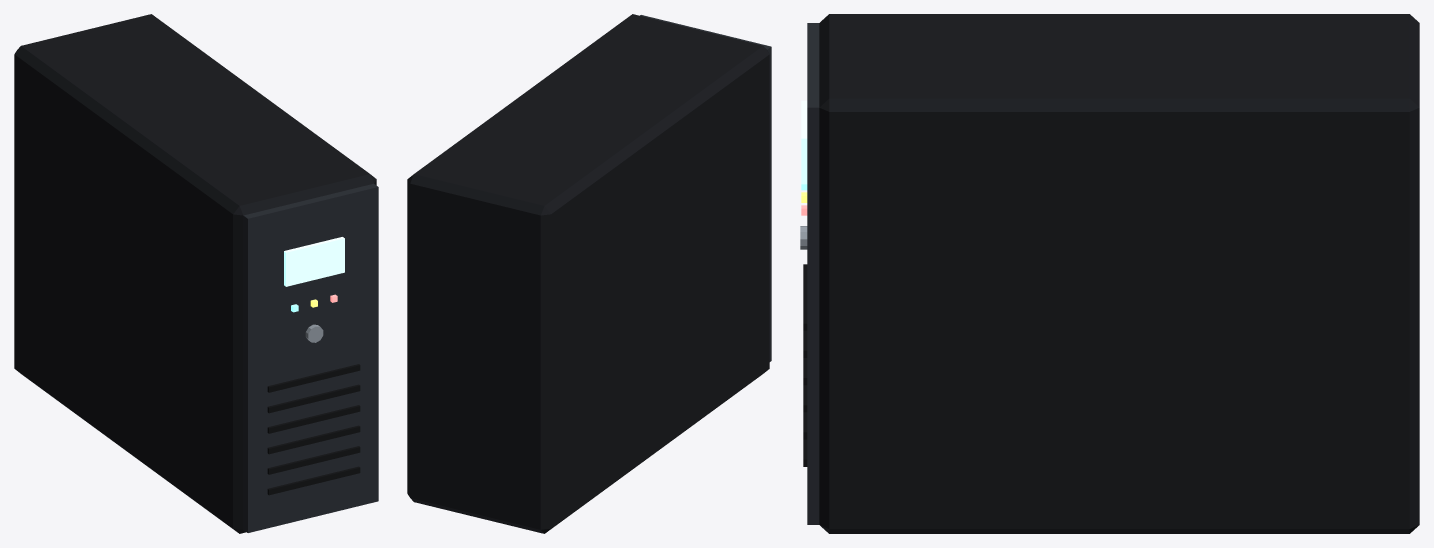
File: 14_UPS_Tower.fbx
3 views of the same model, side by side, from view 1: azimuth 30°, elevation 25°; view 2: azimuth 150°, elevation 25°; view 3: azimuth 270°, elevation 25° (orthographic). The views are drawn at different scales.
Parts seen in each view (by area): view 1: 14_UPS_Tower; view 2: 14_UPS_Tower; view 3: 14_UPS_Tower.
Boxes of the visible parts, x1,y1,x2,y2 form: 14_UPS_Tower: (14, 14, 378, 533); 14_UPS_Tower: (407, 14, 771, 533); 14_UPS_Tower: (800, 14, 1419, 533).
Bounding box in the file's own units: 0.22 × 0.48 × 0.619.
